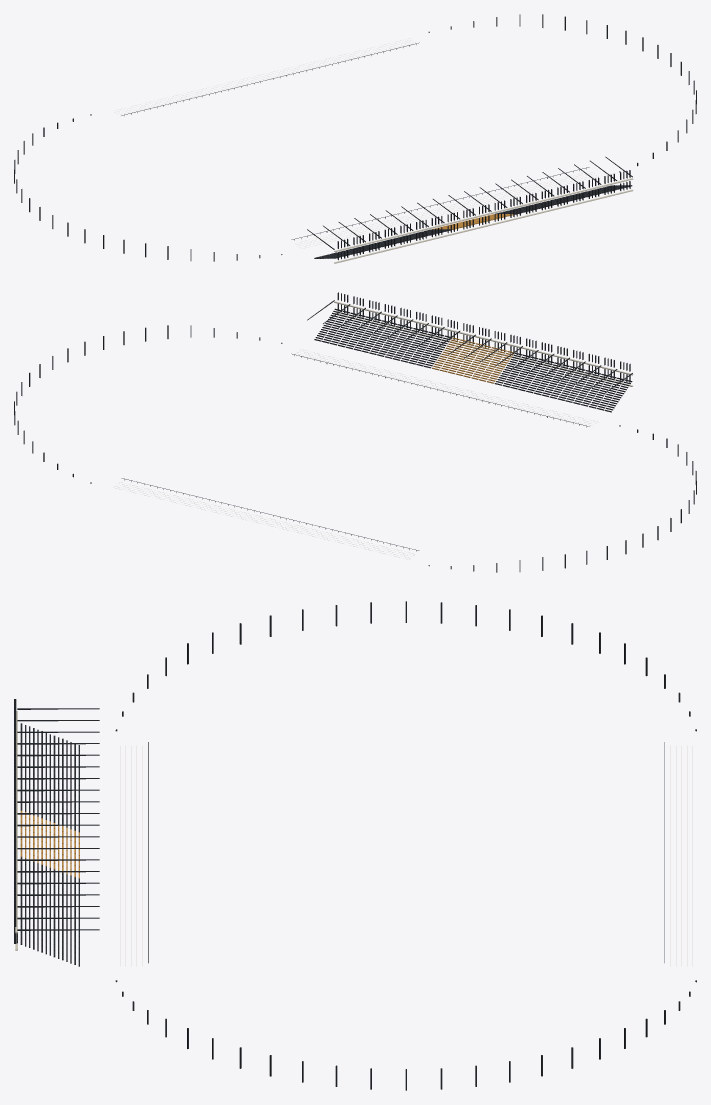
Rendered from dog-derby-detail.glb.
The picture shows the model from 3 angles, top to bottom: view 1: azimuth 30°, elevation 25°; view 2: azimuth 150°, elevation 25°; view 3: azimuth 270°, elevation 25°; orthographic projection. The views are drawn at different scales.
Visible parts, largest first — view 1: DERBY_DETAIL; view 2: DERBY_DETAIL; view 3: DERBY_DETAIL.
Part boxes in pixels (box(x1,y1,x2,y2)): DERBY_DETAIL: box(14, 14, 696, 263); DERBY_DETAIL: box(14, 292, 696, 572); DERBY_DETAIL: box(14, 601, 696, 1090).
Bounding box in the file's own units: 403 × 19.71 × 248.
